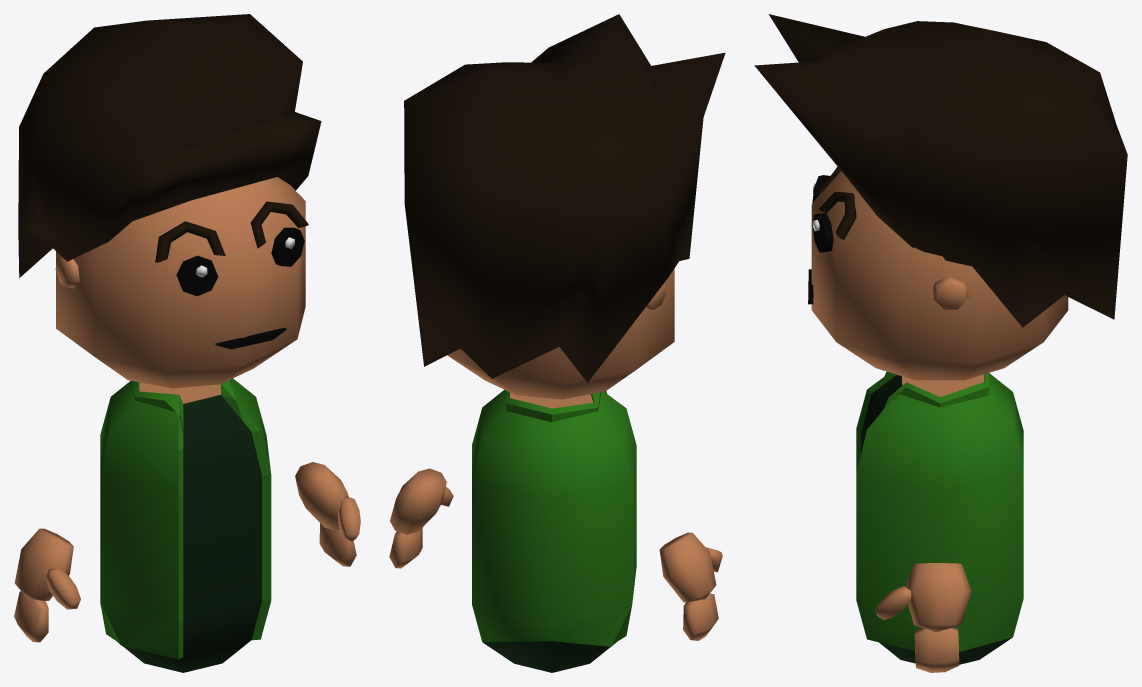
Rendered from hombre_6.fbx.
The picture shows the model from 3 angles, left to right: view 1: azimuth 30°, elevation 25°; view 2: azimuth 150°, elevation 25°; view 3: azimuth 270°, elevation 25°; orthographic projection. The views are drawn at different scales.
Visible parts, largest first — view 1: Pelo005, Cabeza005, Camisa003, Cuerpo005, Palma Izquerda011, Palma Izquerda010, Dedos Izquierdos011, Ojo Derecho005, Ceja Derecha005, Dedos Izquierdos010, DedoPulga Izquierdo011, Ceja Izquierda005 (+5 smaller); view 2: Pelo005, Camisa003, Cabeza005, Palma Izquerda011, Cuerpo005, Palma Izquerda010, Dedos Izquierdos011, Dedos Izquierdos010, Cuerpo004; view 3: Pelo005, Camisa003, Cabeza005, Palma Izquerda010, Dedos Izquierdos010, Cuerpo005, Oreja Derecha011, Cuerpo004, Ceja Izquierda005, DedoPulga Izquierdo010, Ojo Izquierdo005.
Boxes of the visible parts, box(x1,y1,x2,y2) form: Pelo005: box(18, 14, 321, 277); Cabeza005: box(56, 177, 305, 388); Camisa003: box(100, 378, 271, 659); Cuerpo005: box(123, 394, 261, 672); Palma Izquerda011: box(14, 528, 73, 600); Palma Izquerda010: box(295, 462, 348, 530); Dedos Izquierdos011: box(14, 591, 48, 642); Ojo Derecho005: box(176, 255, 218, 296); Ceja Derecha005: box(155, 221, 225, 262); Dedos Izquierdos010: box(319, 523, 356, 566); DedoPulga Izquierdo011: box(45, 568, 80, 609); Ceja Izquierda005: box(250, 201, 308, 248); Pelo005: box(404, 14, 725, 382); Camisa003: box(472, 390, 636, 646); Cabeza005: box(447, 268, 674, 399); Palma Izquerda011: box(659, 532, 716, 602); Cuerpo005: box(483, 641, 610, 672); Palma Izquerda010: box(390, 468, 446, 534); Dedos Izquierdos011: box(683, 593, 718, 640); Dedos Izquierdos010: box(389, 528, 422, 568); Cuerpo004: box(510, 392, 593, 408); Pelo005: box(754, 14, 1127, 327); Camisa003: box(856, 371, 1023, 651); Cabeza005: box(811, 171, 1068, 380); Palma Izquerda010: box(905, 563, 971, 632); Dedos Izquierdos010: box(914, 627, 959, 672); Cuerpo005: box(861, 375, 1012, 664); Oreja Derecha011: box(931, 276, 968, 309); Cuerpo004: box(902, 374, 984, 396); Ceja Izquierda005: box(819, 192, 856, 239); DedoPulga Izquierdo010: box(875, 586, 911, 620); Ojo Izquierdo005: box(812, 213, 833, 252).
Bounding box in the file's own units: 1.41 × 2.54 × 1.38.
